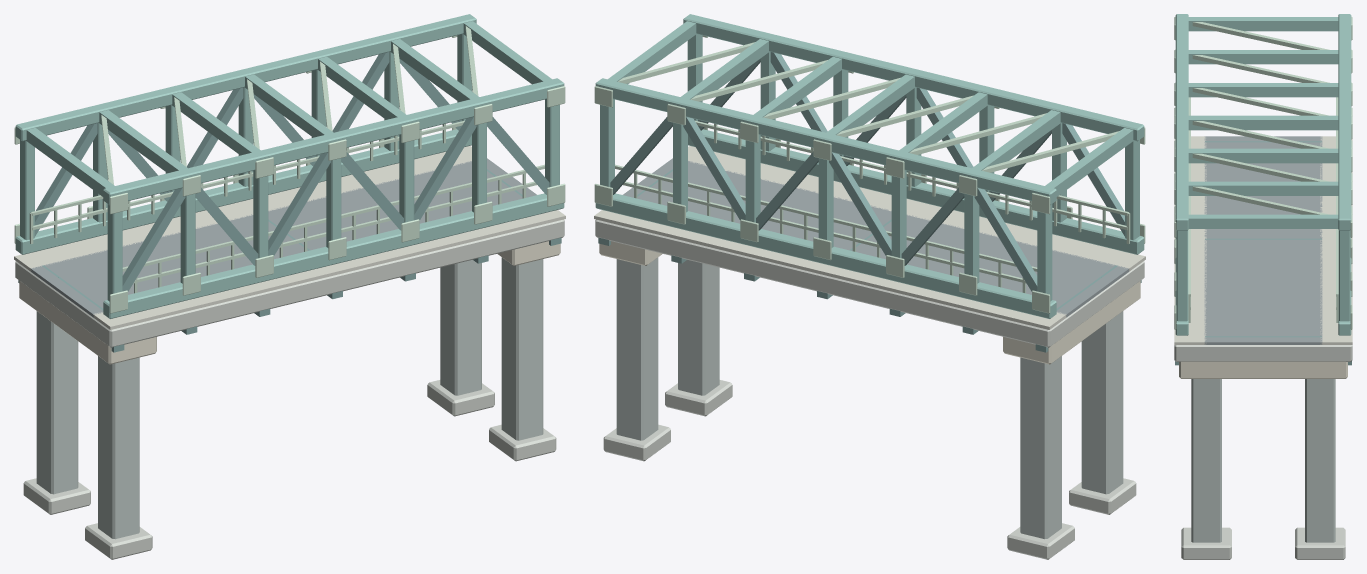
The model's file is bridge-road-2.glb.
3 renders of one model, left to right at view 1: azimuth 30°, elevation 25°; view 2: azimuth 150°, elevation 25°; view 3: azimuth 270°, elevation 25°, orthographic. The views are drawn at different scales.
Visible parts, largest first — view 1: bridge-road-2_concrete, bridge-road-2_steel; view 2: bridge-road-2_concrete, bridge-road-2_steel; view 3: bridge-road-2_concrete, bridge-road-2_steel.
Part boxes in pixels (left/top/right/bottom): bridge-road-2_concrete: left=14, top=26, right=565, bottom=559; bridge-road-2_steel: left=15, top=14, right=564, bottom=352; bridge-road-2_concrete: left=594, top=35, right=1145, bottom=559; bridge-road-2_steel: left=595, top=14, right=1144, bottom=352; bridge-road-2_concrete: left=1174, top=16, right=1352, bottom=559; bridge-road-2_steel: left=1175, top=14, right=1351, bottom=365.
Bounding box in the file's own units: 6 × 4.67 × 2.2.
2 materials, 2 textured.
